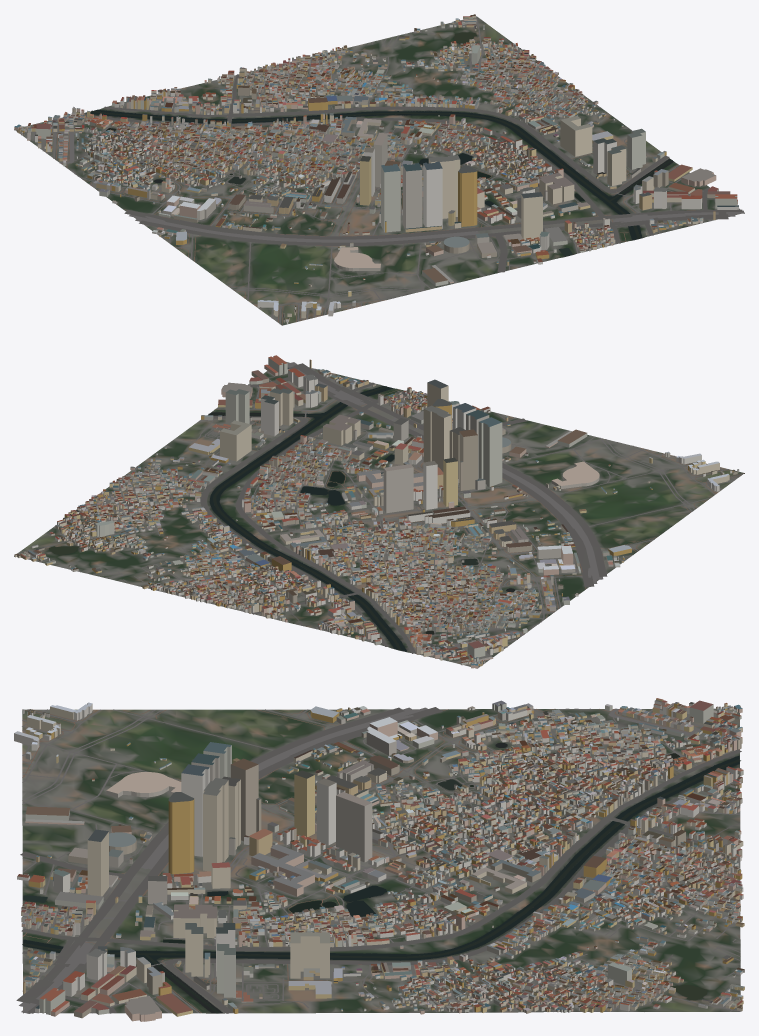
The picture shows the model from 3 angles, top to bottom: view 1: azimuth 30°, elevation 25°; view 2: azimuth 150°, elevation 25°; view 3: azimuth 270°, elevation 25°; orthographic projection. The views are drawn at different scales.
Parts seen in each view (by area): view 1: buildings, ground, roads, water; view 2: buildings, ground, roads, water; view 3: buildings, ground, roads, water.
Boxes of the visible parts, x1,y1,x2,y2 form: buildings: [14, 14, 738, 323]; ground: [14, 16, 744, 325]; roads: [26, 16, 744, 325]; water: [85, 32, 673, 256]; buildings: [14, 355, 739, 668]; ground: [14, 362, 744, 668]; roads: [18, 362, 744, 658]; water: [49, 385, 515, 651]; buildings: [14, 698, 744, 1021]; ground: [22, 708, 740, 1013]; roads: [16, 707, 741, 1013]; water: [22, 742, 740, 1013].
Bounding box in the file's own units: 1452 × 179 × 1428.
